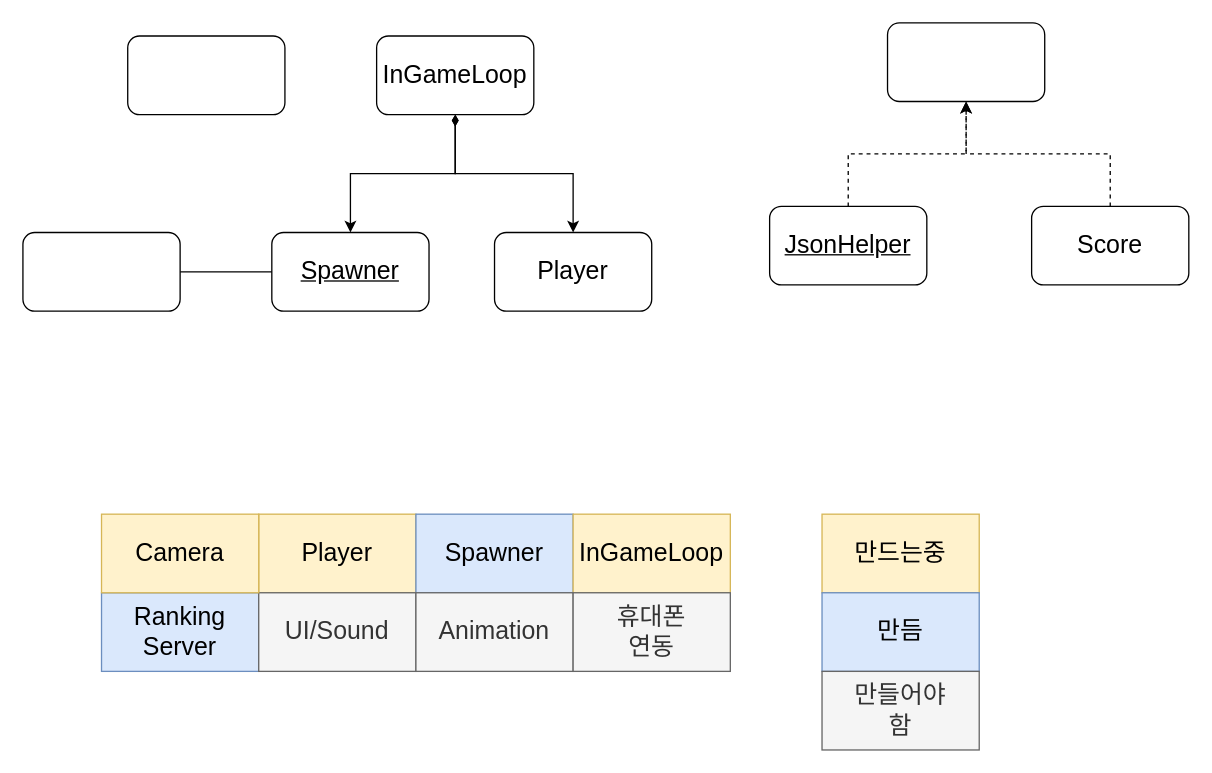
This 1212x773 diagram has some shape labels left out. Each missing label, with the centre of its shape:
"InGameLoop Editor" belongs at (x=205, y=75).
"Spawned Obj" belongs at (x=101, y=271).
"WebServer" belongs at (x=965, y=62).
